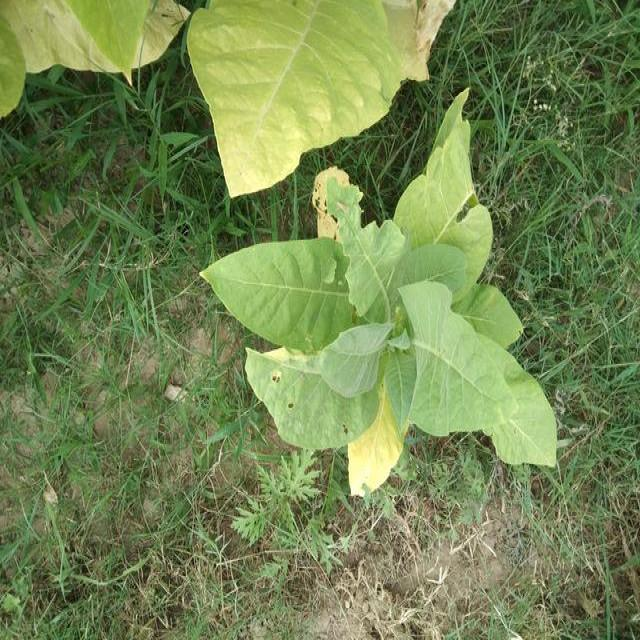crop: (202, 92, 563, 522)
